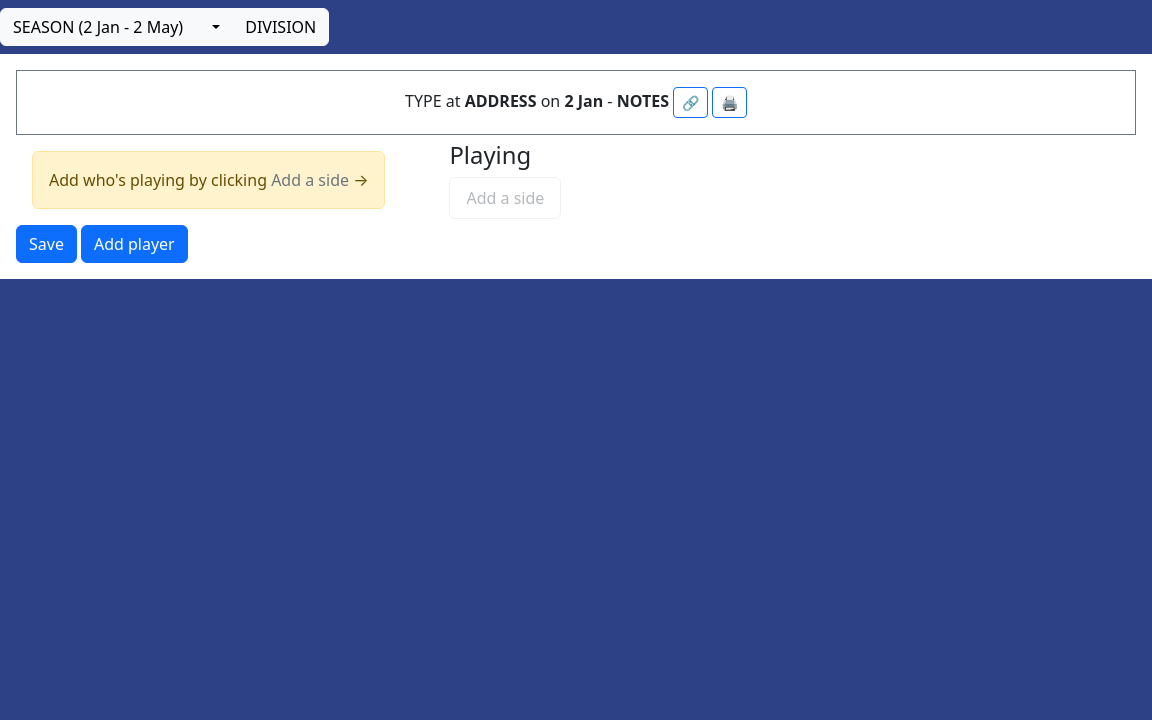
it: Tournament › interactivity › can open add player dialog
Click the button "Add player" at (134, 244), box [81,225,188,263]
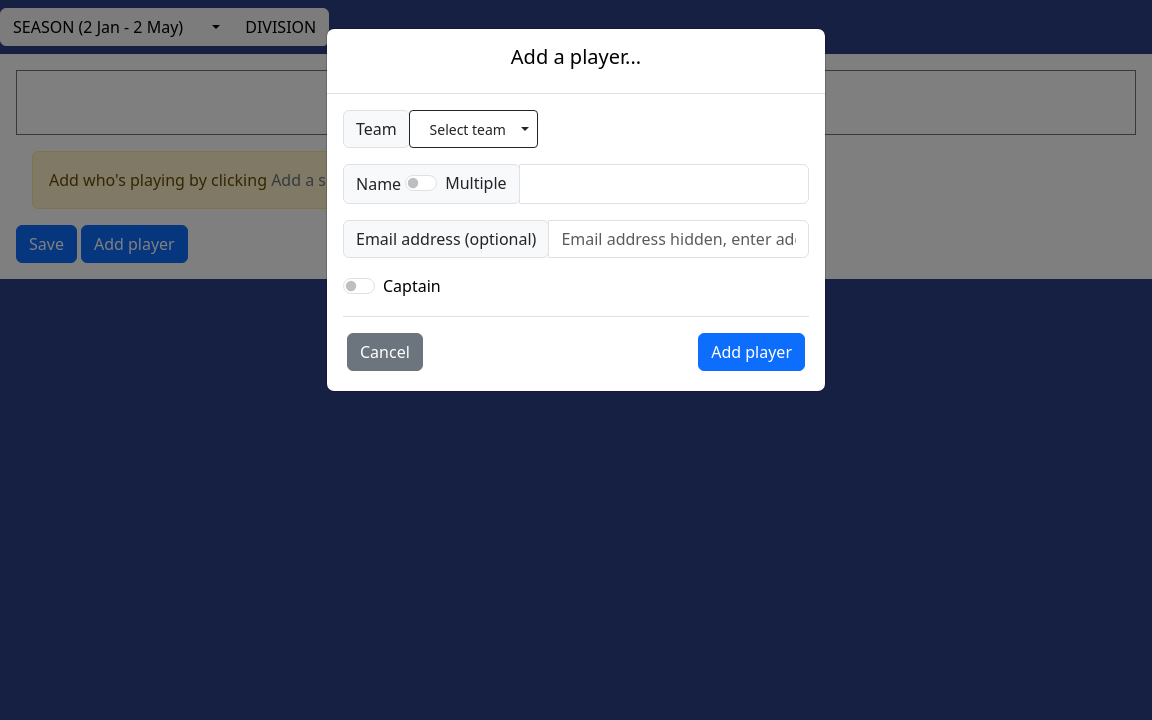
Expected: the element with class "modal-dialog" shows "Add player", [698,333,805,371]
